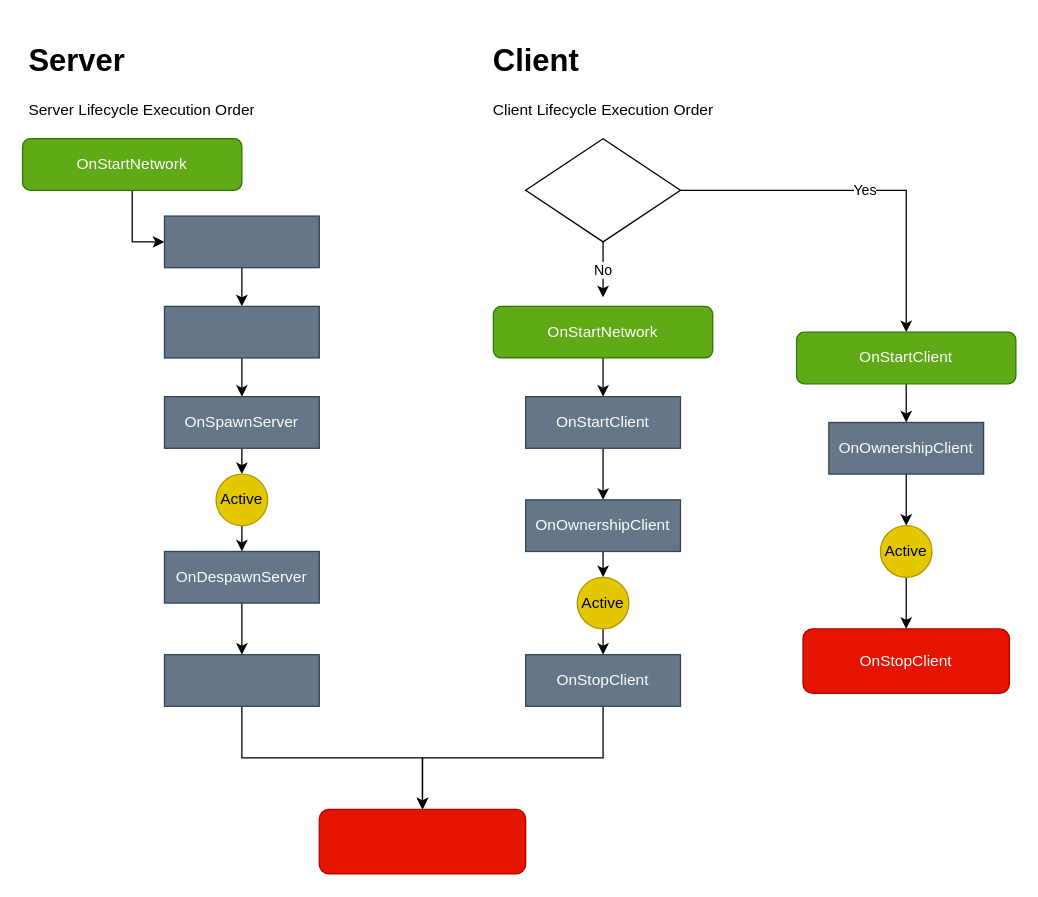
Some shapes in this 1038 by 897 pixel diagram are drawn without their labels. The centre of each missing label's shape, as x and y in pixels:
"Client Only?" belongs at [602,189].
"OnOwnershipServer" belongs at [241,331].
"OnStartServer" belongs at [241,241].
"OnStopNetwork" belongs at [422,841].
"OnStopServer" belongs at [241,679].
